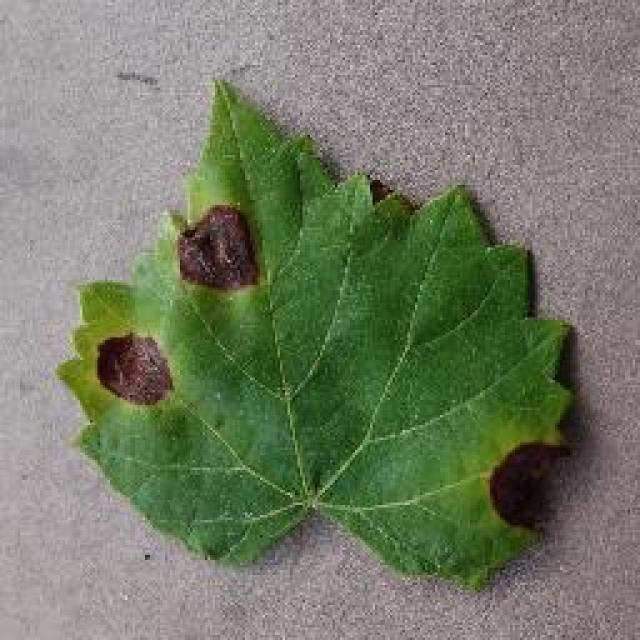Grape___Black_rot: (47, 72, 575, 596)
